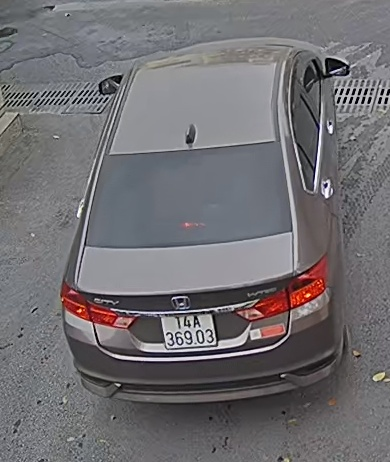vehicle plate: (152, 306, 223, 351)
